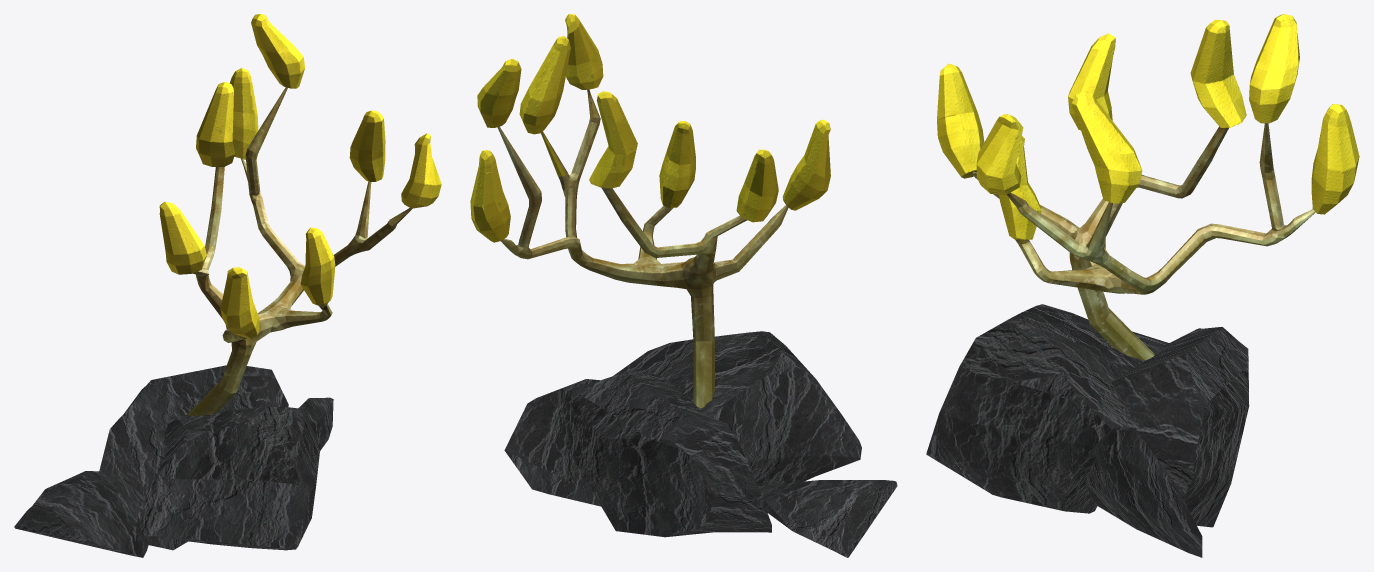
File: Mushroom02.glb
3 renders of one model, left to right at view 1: azimuth 30°, elevation 25°; view 2: azimuth 150°, elevation 25°; view 3: azimuth 270°, elevation 25°, orthographic. The views are drawn at different scales.
Parts seen in each view (by area): view 1: Cube.006, Torus.009_cell.002, Torus.009_cell.001, Torus.009_cell.004, Torus.009_cell.003; view 2: Cube.006, Torus.009_cell.001, Torus.009_cell.002, Torus.009_cell.004, Torus.009_cell.003; view 3: Cube.006, Torus.009_cell.002, Torus.009_cell.001, Torus.009_cell.003.
Boxes of the visible parts, x1,y1,x2,y2 form: Cube.006: [159, 14, 441, 415]; Torus.009_cell.002: [136, 406, 319, 550]; Torus.009_cell.001: [99, 365, 288, 550]; Torus.009_cell.004: [14, 471, 150, 557]; Torus.009_cell.003: [298, 397, 333, 450]; Cube.006: [470, 14, 830, 408]; Torus.009_cell.001: [559, 372, 771, 537]; Torus.009_cell.002: [613, 331, 861, 486]; Torus.009_cell.004: [752, 480, 897, 557]; Torus.009_cell.003: [504, 379, 600, 506]; Cube.006: [937, 14, 1359, 360]; Torus.009_cell.002: [926, 304, 1164, 513]; Torus.009_cell.001: [1111, 327, 1249, 527]; Torus.009_cell.003: [1085, 430, 1202, 557].
Size of what is drawn, in the model's own units: 1.58 by 1.95 by 1.38.
2 materials, 2 textured.
